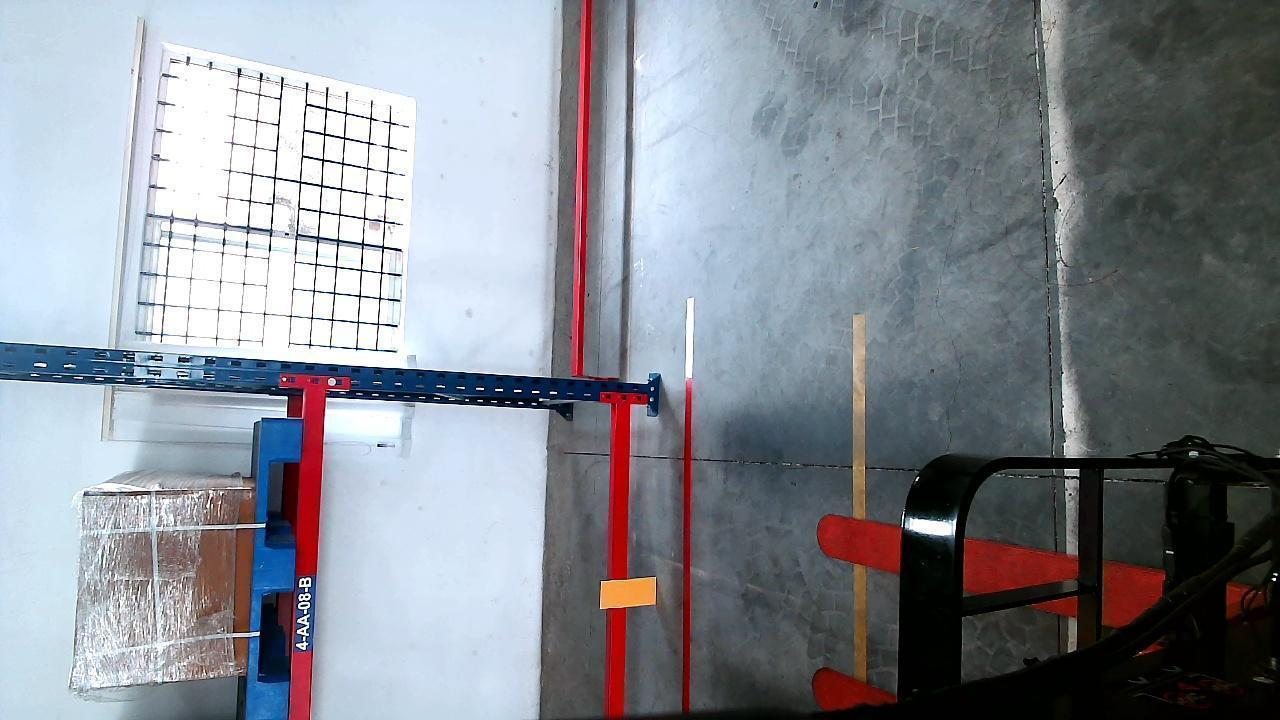red_line: (676, 326, 698, 700)
yellow_line: (849, 314, 868, 686)
